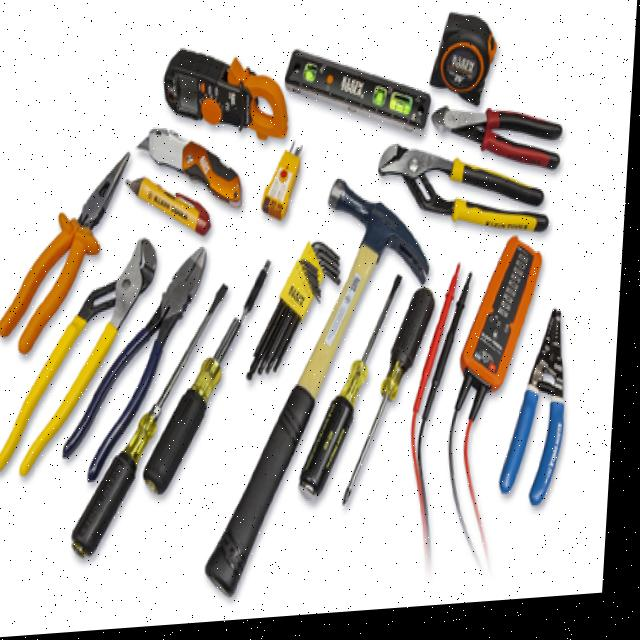Screwdriver: (79, 287, 231, 557), (151, 265, 273, 497), (305, 282, 406, 504), (349, 295, 438, 508)
